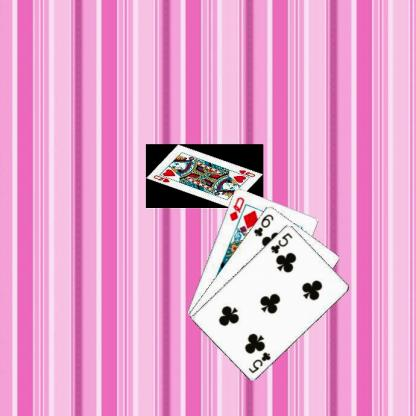5C: (268, 230, 294, 255), (246, 349, 272, 374)
6C: (251, 211, 275, 238)
QD: (227, 194, 245, 223)
